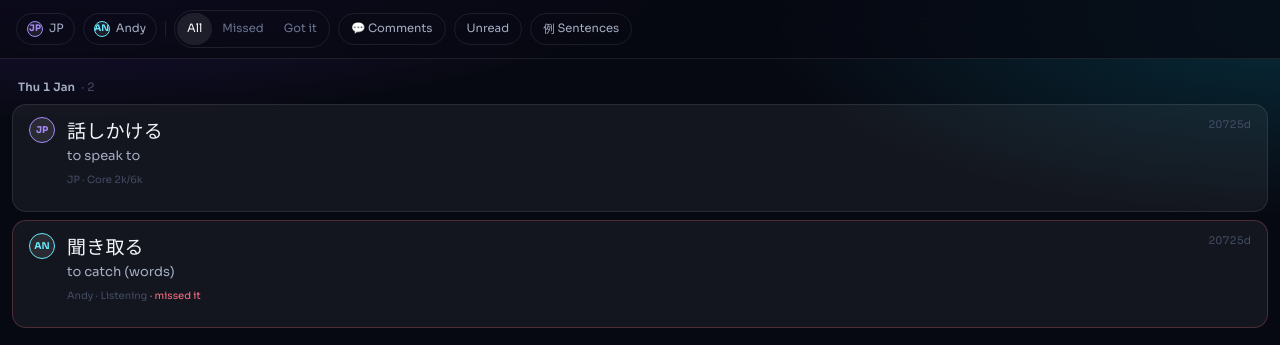
Test case: Feed › clicking the active chip clears the filter
What coordinates should you click on to do the following:
click the button with test id "chip-andy"
I would click on:
 (120, 29)
Its box is x1=83 y1=13 x2=157 y2=45.
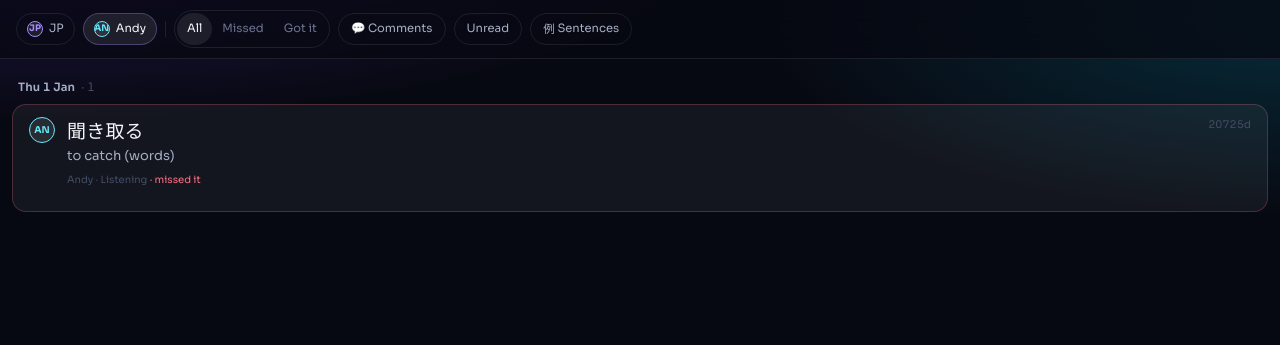
What coordinates should you click on to do the following:
click the button with test id "chip-andy"
I would click on:
 (120, 29)
Its box is x1=83 y1=13 x2=157 y2=45.
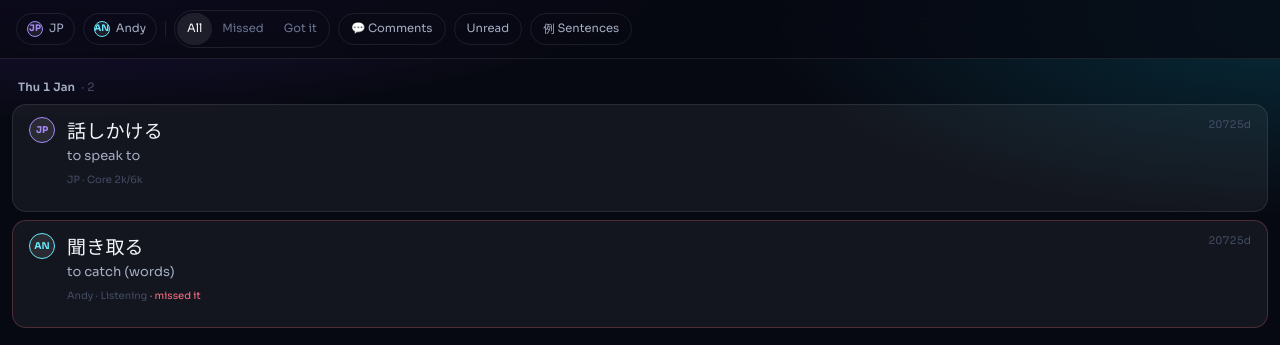
Result: the list item with test id "item-jp:2" is shown at x1=12 y1=104 x2=1268 y2=212
